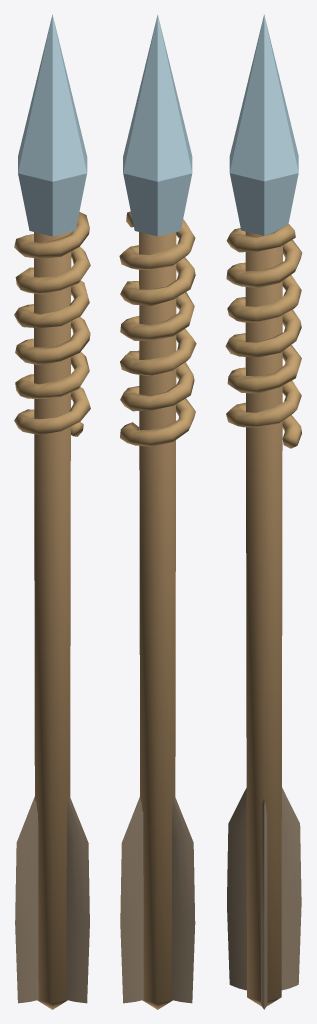
Rendered from jolting-dart.glb.
3 renders of one model, left to right at view 1: azimuth 30°, elevation 25°; view 2: azimuth 150°, elevation 25°; view 3: azimuth 330°, elevation 25°, orthographic.
Visible parts, largest first — view 1: jolting-dart; view 2: jolting-dart; view 3: jolting-dart.
Part boxes in pixels (box(x1,y1,x2,y2)): jolting-dart: box(14, 14, 90, 1009); jolting-dart: box(119, 14, 196, 1009); jolting-dart: box(225, 14, 302, 1009).
Bounding box in the file's own units: 0.05 × 0.66 × 0.045.
